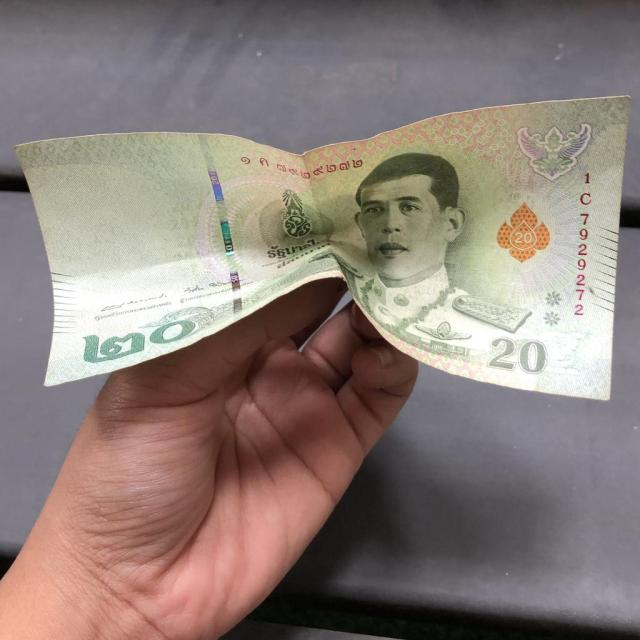THAI20: (20, 103, 623, 399)
